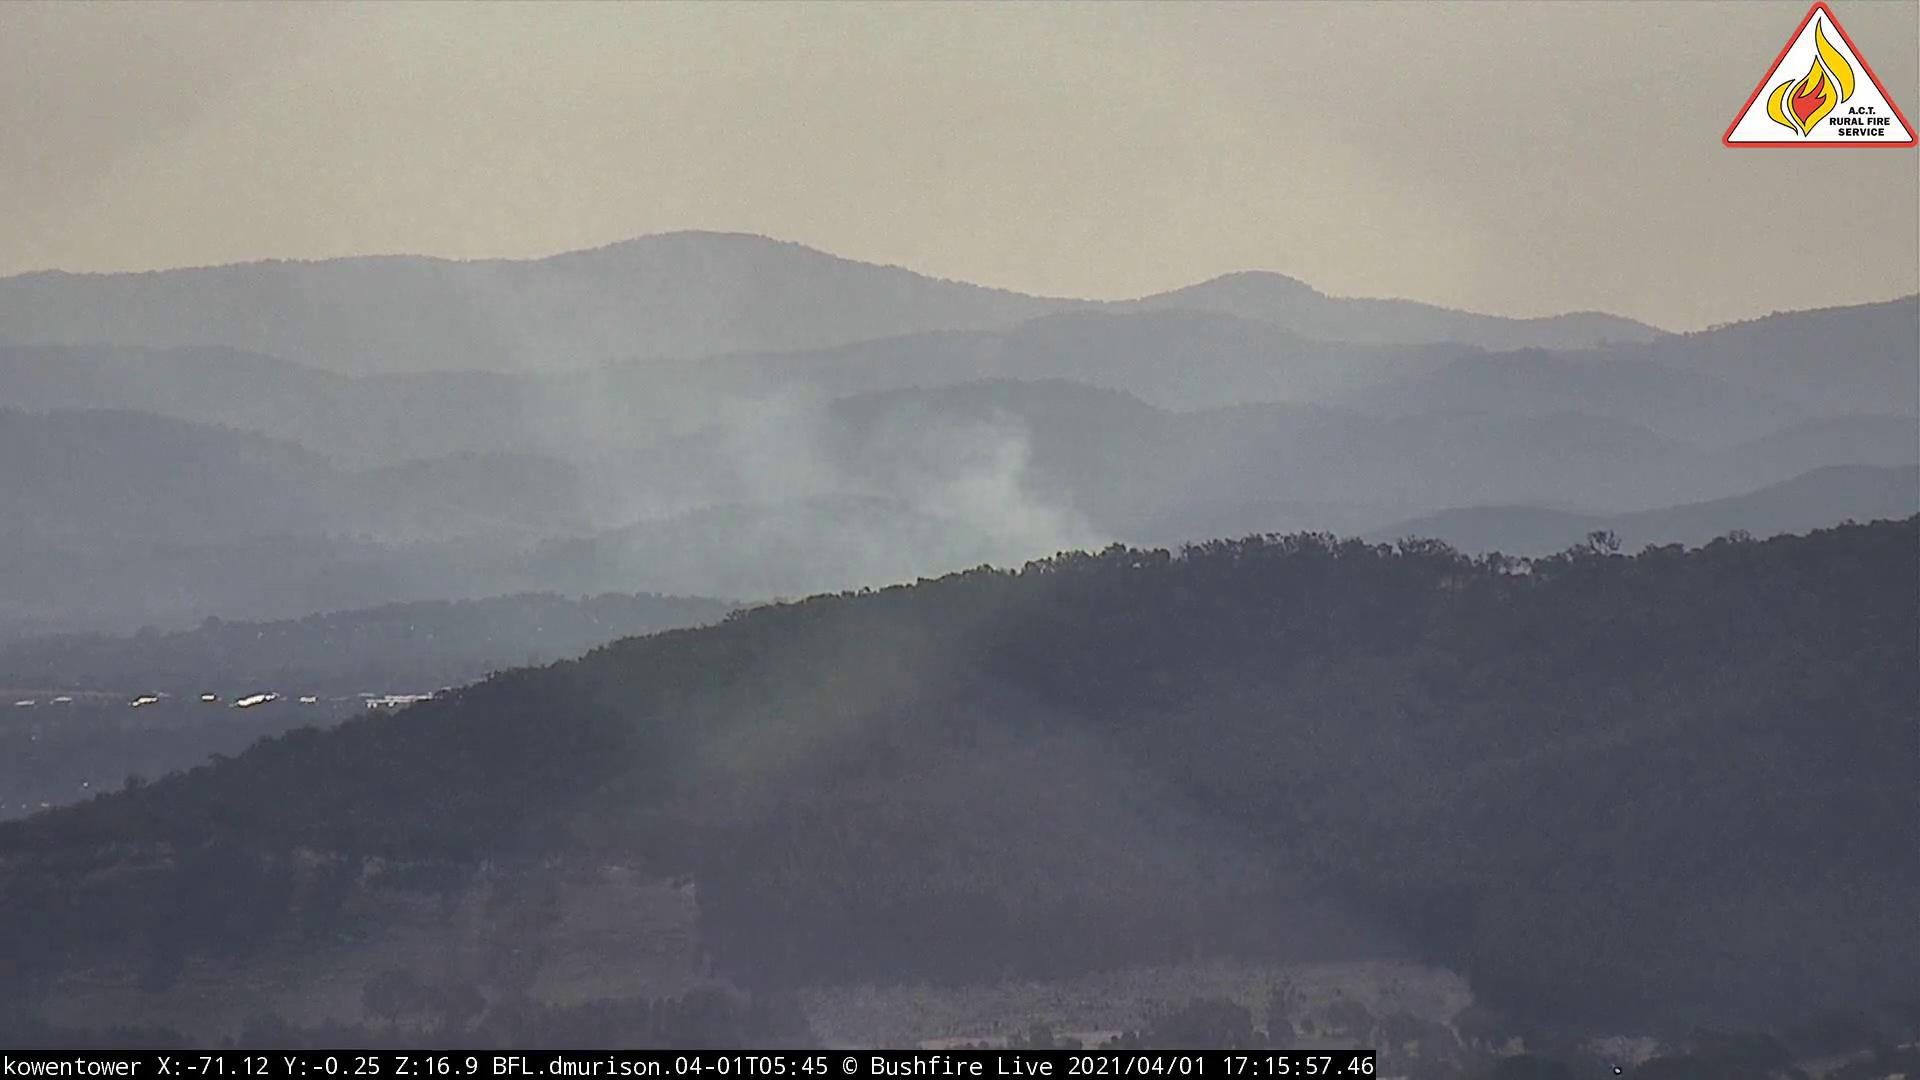instance_salient_object: (512, 295, 1131, 645)
